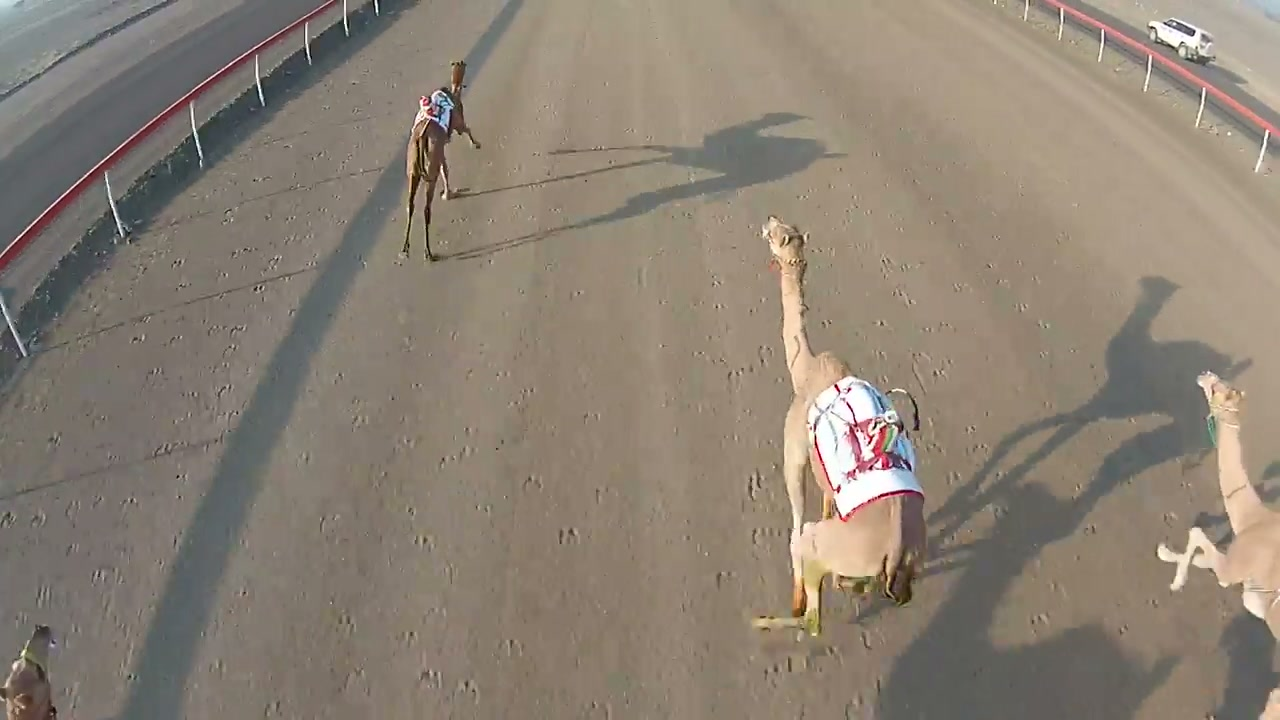animal_foot_print: (40, 211, 308, 708), (308, 362, 593, 719)
